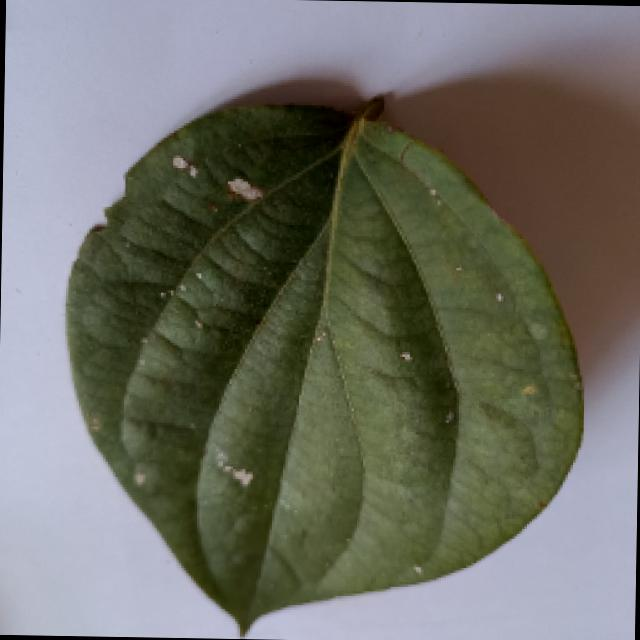pollu-disease: (59, 86, 612, 633)
